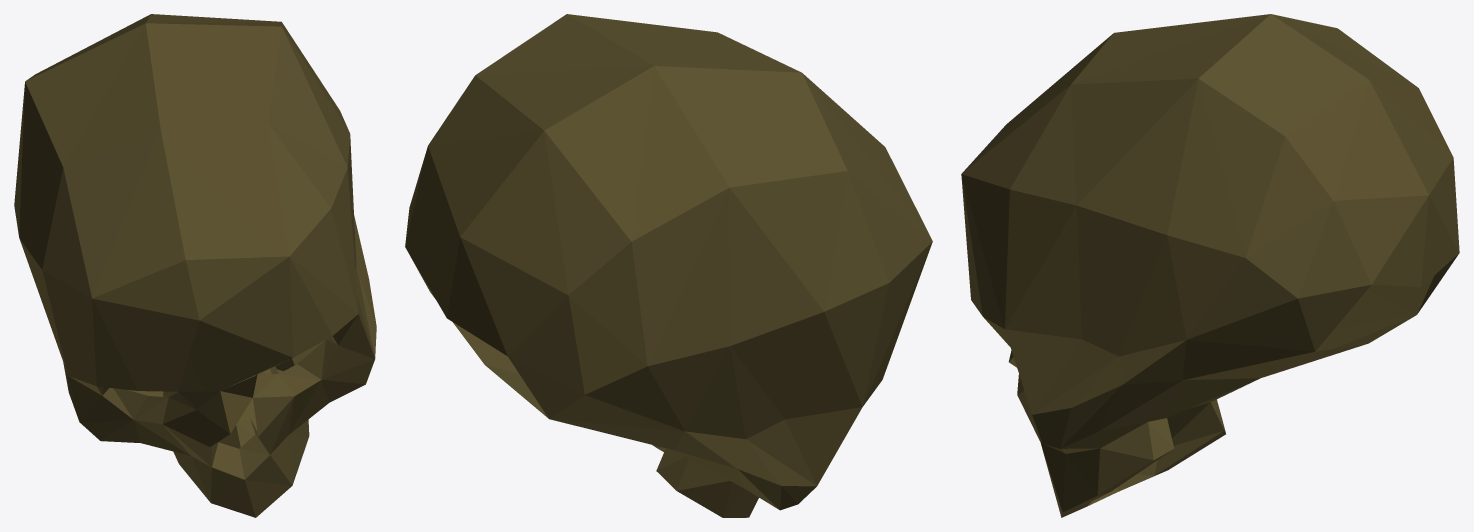
File: skull002_skull_0_lev1.glb
The picture shows the model from 3 angles, left to right: view 1: azimuth 30°, elevation 25°; view 2: azimuth 150°, elevation 25°; view 3: azimuth 270°, elevation 25°; orthographic projection. The views are drawn at different scales.
Visible parts, largest first — view 1: skull002_skull_0_lev1; view 2: skull002_skull_0_lev1; view 3: skull002_skull_0_lev1.
Part boxes in pixels (x1,y1,x2,y2): skull002_skull_0_lev1: (14,14,376,517); skull002_skull_0_lev1: (405,14,932,517); skull002_skull_0_lev1: (961,14,1459,517).
Size of the model in its own units: 0.1953 by 0.2367 by 0.2165.
